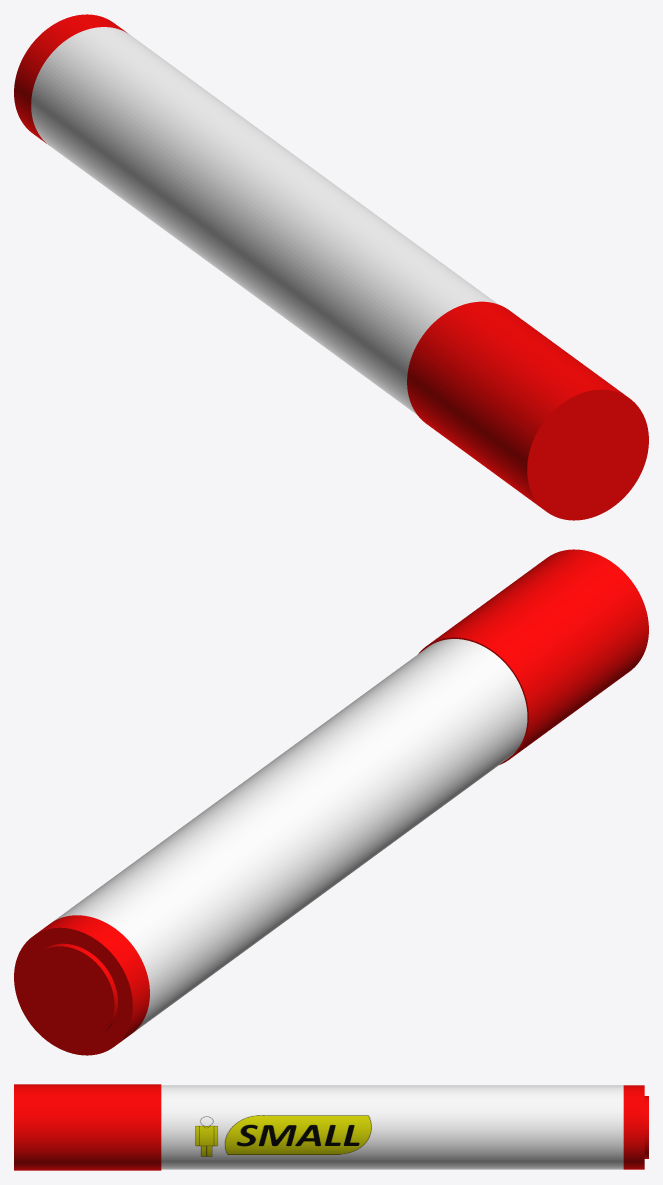
File: small.fbx
3 views of the same model, one above another, from view 1: azimuth 30°, elevation 25°; view 2: azimuth 150°, elevation 25°; view 3: azimuth 270°, elevation 25° (orthographic). The views are drawn at different scales.
Visible parts, largest first — view 1: Cylinder, Cylinder.001, Cylinder.002; view 2: Cylinder, Cylinder.001, Cylinder.002, Cylinder.003; view 3: Cylinder, Cylinder.001, Cylinder.002, Cylinder.003.
Boxes of the visible parts, <box> form: Cylinder: <box>31,27,497,414</box>; Cylinder.001: <box>407,301,648,520</box>; Cylinder.002: <box>14,14,127,143</box>; Cylinder: <box>53,639,527,1031</box>; Cylinder.001: <box>418,549,648,764</box>; Cylinder.002: <box>14,915,149,1055</box>; Cylinder.003: <box>25,943,117,1041</box>; Cylinder: <box>161,1085,623,1169</box>; Cylinder.001: <box>14,1084,161,1170</box>; Cylinder.002: <box>623,1085,644,1169</box>; Cylinder.003: <box>644,1096,648,1158</box>.
Bounding box in the file's own units: 2.05 × 2.05 × 15.1.
2 materials, 1 textured.
